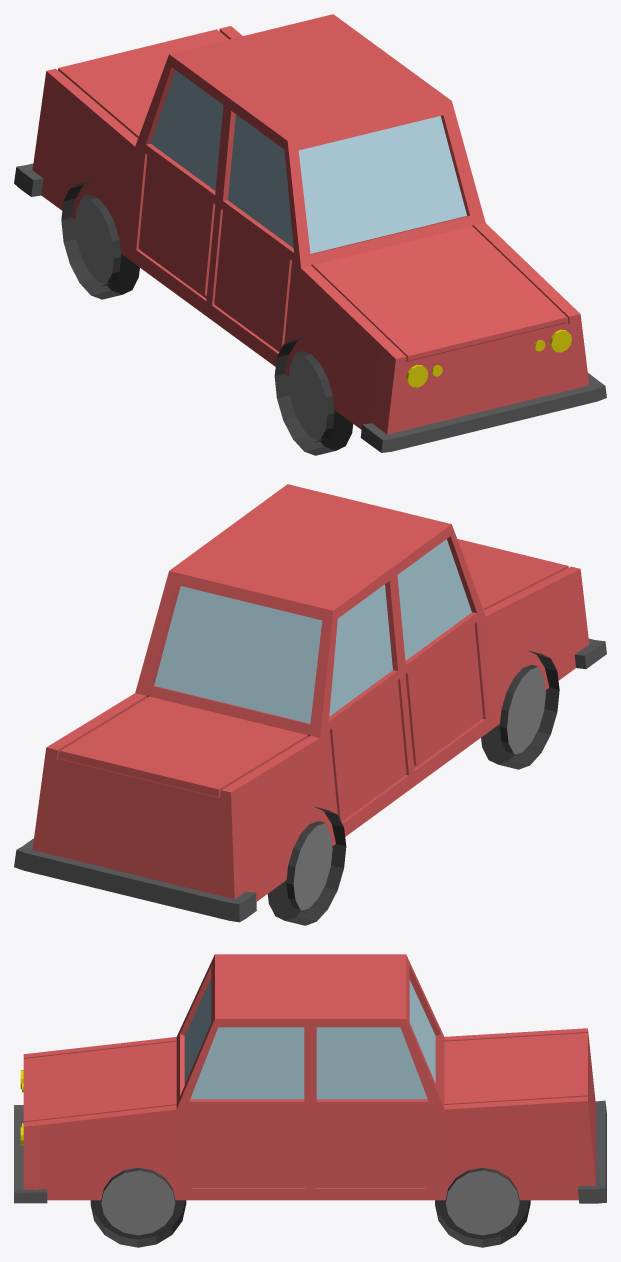
The model's file is car.glb.
3 renders of one model, top to bottom at view 1: azimuth 30°, elevation 25°; view 2: azimuth 150°, elevation 25°; view 3: azimuth 270°, elevation 25°, orthographic. The views are drawn at different scales.
Visible parts, largest first — view 1: Car; view 2: Car; view 3: Car.
Part boxes in pixels (left/top/right/bottom): Car: left=14, top=14, right=606, bottom=455; Car: left=14, top=484, right=606, bottom=925; Car: left=14, top=954, right=606, bottom=1247.
Bounding box in the file's own units: 2.2 × 2.5 × 6.2.
